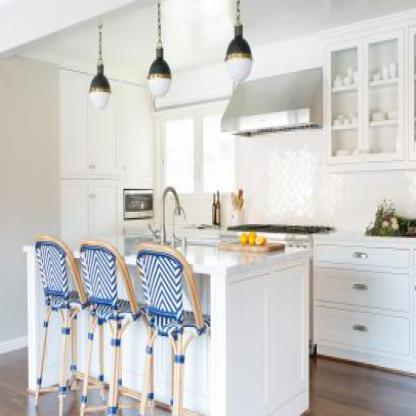chair: (129, 243, 212, 416), (74, 240, 134, 416)
light: (135, 0, 182, 100), (82, 0, 116, 117), (216, 0, 261, 88)
table: (25, 247, 314, 416)
